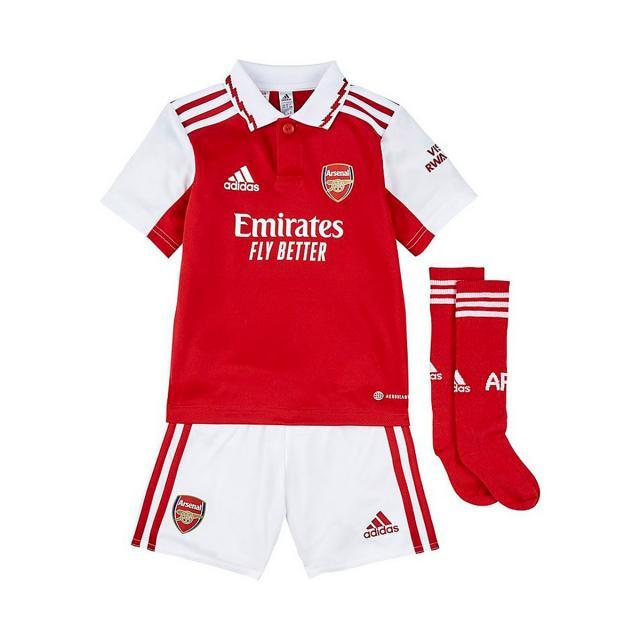Adidas: (222, 165, 260, 194), (364, 511, 400, 539)
Emirates: (232, 211, 344, 238)
